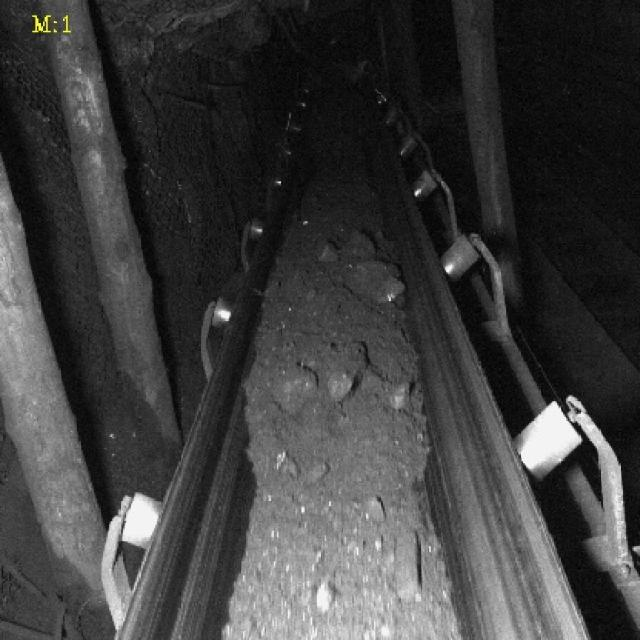large_sized_coal: (340, 256, 405, 304), (394, 532, 426, 598), (269, 363, 311, 411), (388, 382, 417, 412), (328, 369, 357, 398)
